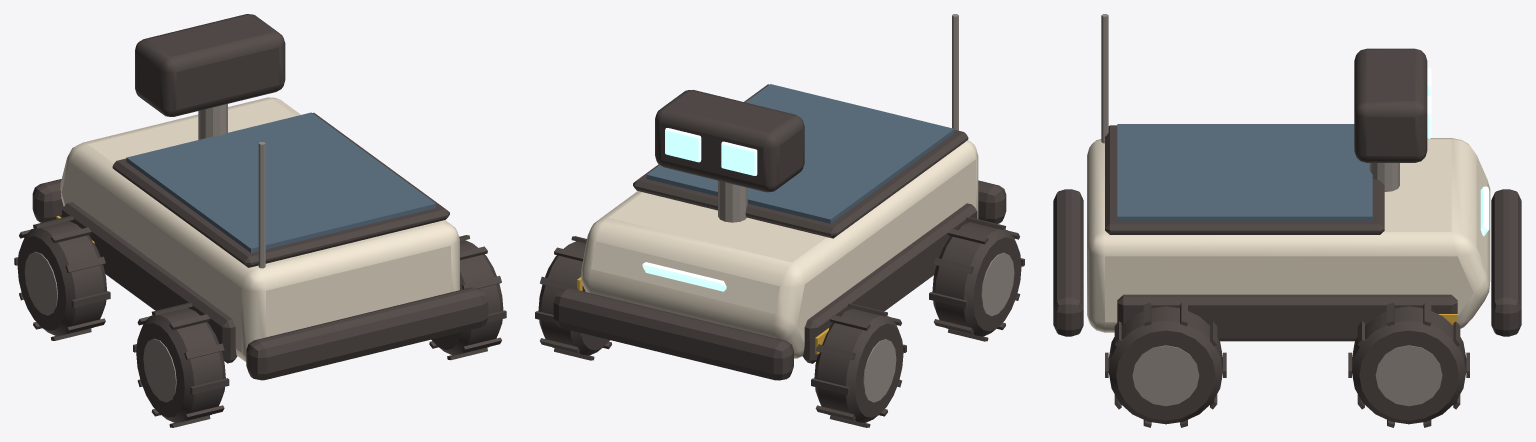
Rendered from vehicle_pip.glb.
3 views of the same model, side by side, from view 1: azimuth 30°, elevation 25°; view 2: azimuth 150°, elevation 25°; view 3: azimuth 270°, elevation 25° (orthographic). The views are drawn at different scales.
Parts seen in each view (by area): view 1: tub-convcol, solar, head, bumper-0.36, wheel_3, wheel_1, skirt-1, panel_frame, wheel_4, bumper0.36, whip; view 2: tub-convcol, solar, head, bumper0.36, wheel_3, wheel_1, skirt-1, panel_frame, wheel_2, bumper-0.36, eye_l, eye_r (+2 smaller); view 3: tub-convcol, solar, wheel_4, wheel_2, skirt1, head, panel_frame, bumper0.36, bumper-0.36, whip, status_bar.
Part boxes in pixels (x1,y1,x2,y2): tub-convcol: (60,97,459,361); solar: (126,112,435,252); head: (135,14,285,139); bumper-0.36: (246,287,488,380); wheel_3: (133,302,229,427); wheel_1: (14,216,110,340); skirt-1: (62,202,237,363); panel_frame: (112,112,449,267); wheel_4: (429,235,506,360); bumper0.36: (32,179,63,222); whip: (258,142,265,268); tub-convcol: (581,140,978,358); solar: (646,84,954,223); head: (655,90,804,222); bumper0.36: (553,288,793,380); wheel_3: (929,217,1024,341); wheel_1: (811,303,906,427); skirt-1: (802,203,977,363); panel_frame: (633,84,968,238); wheel_2: (535,236,611,360); bumper-0.36: (978,180,1006,223); eye_l: (721,141,757,175); eye_r: (665,128,701,162); tub-convcol: (1087,138,1490,332); solar: (1117,124,1372,220); wheel_4: (1105,302,1226,427); wheel_2: (1348,302,1469,427); skirt1: (1117,294,1457,341); head: (1354,48,1427,191); panel_frame: (1105,125,1384,234); bumper0.36: (1491,189,1521,336); bumper-0.36: (1053,189,1083,336); whip: (1101,14,1108,143); status_bar: (1480,186,1489,236).
Bounding box in the file's own units: 0.6232 × 0.527 × 0.77.
